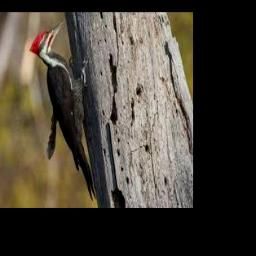Woodpecker: (29, 20, 97, 200)
